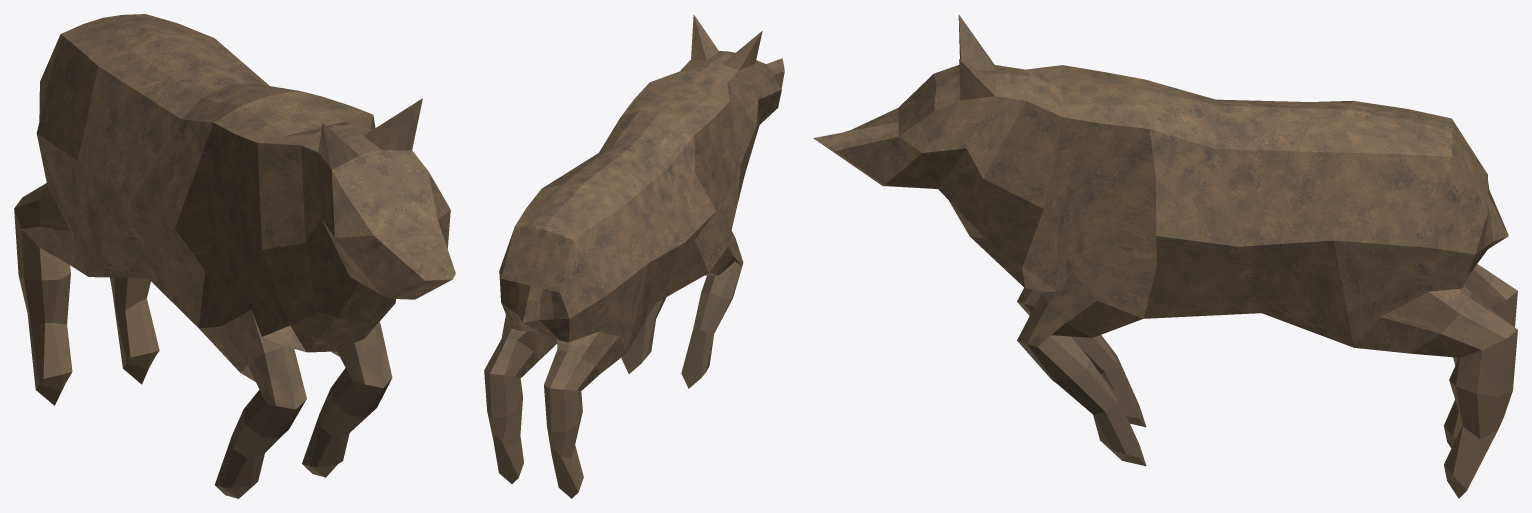
The model's file is piesblend_000026.obj.
3 views of the same model, side by side, from view 1: azimuth 30°, elevation 25°; view 2: azimuth 150°, elevation 25°; view 3: azimuth 270°, elevation 25° (orthographic). The views are drawn at different scales.
Visible parts, largest first — view 1: Cube; view 2: Cube; view 3: Cube.
Part boxes in pixels (x1,y1,x2,y2): Cube: (14,14,455,498); Cube: (484,14,784,498); Cube: (813,14,1517,498).
Bounding box in the file's own units: 2.56 × 6.66 × 9.59.
1 material, 1 textured.
